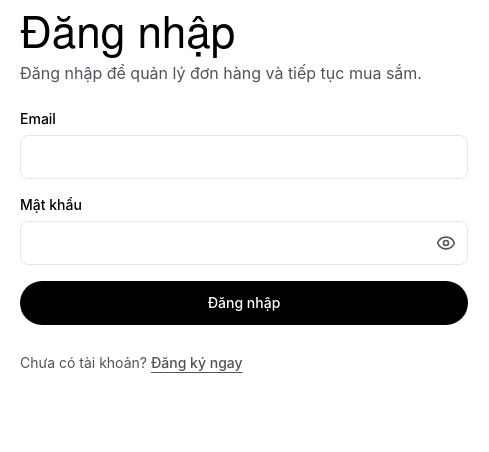
Test case: LoginPage › shows the exact locked-account message on 403
The image size is (489, 452).
Step 1. Type "buyer@example.com" into the field labelled "Email" → (244, 157), box [20, 135, 468, 179]
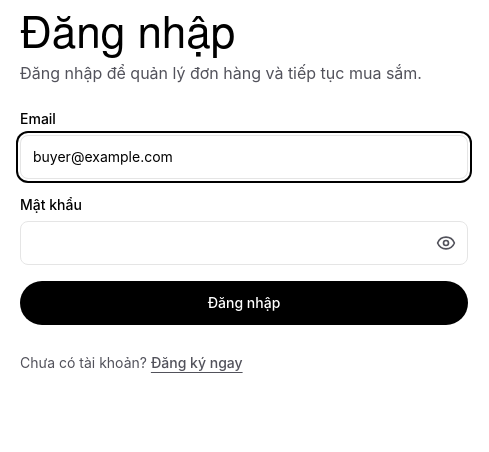
Step 2. Type "secret123" into the password field labelled "Mật khẩu" → (244, 243), box [20, 221, 468, 265]
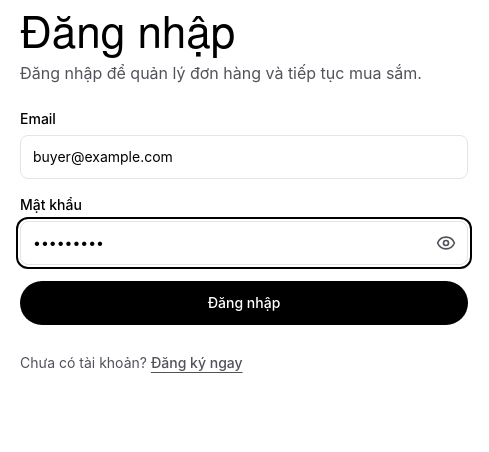
Step 3. Click the button "Đăng nhập" → (244, 303), box [20, 281, 468, 325]
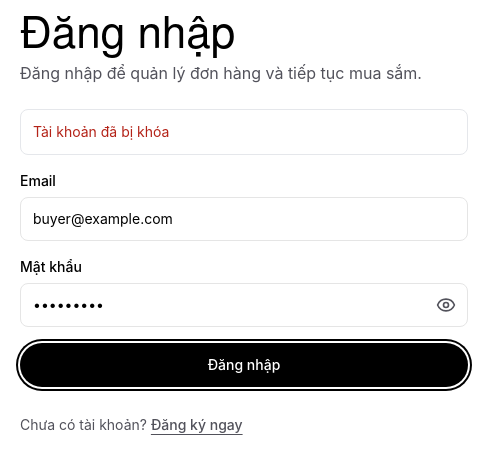
Now the text "Tài khoản đã bị khóa" is shown, box [20, 109, 468, 155]
